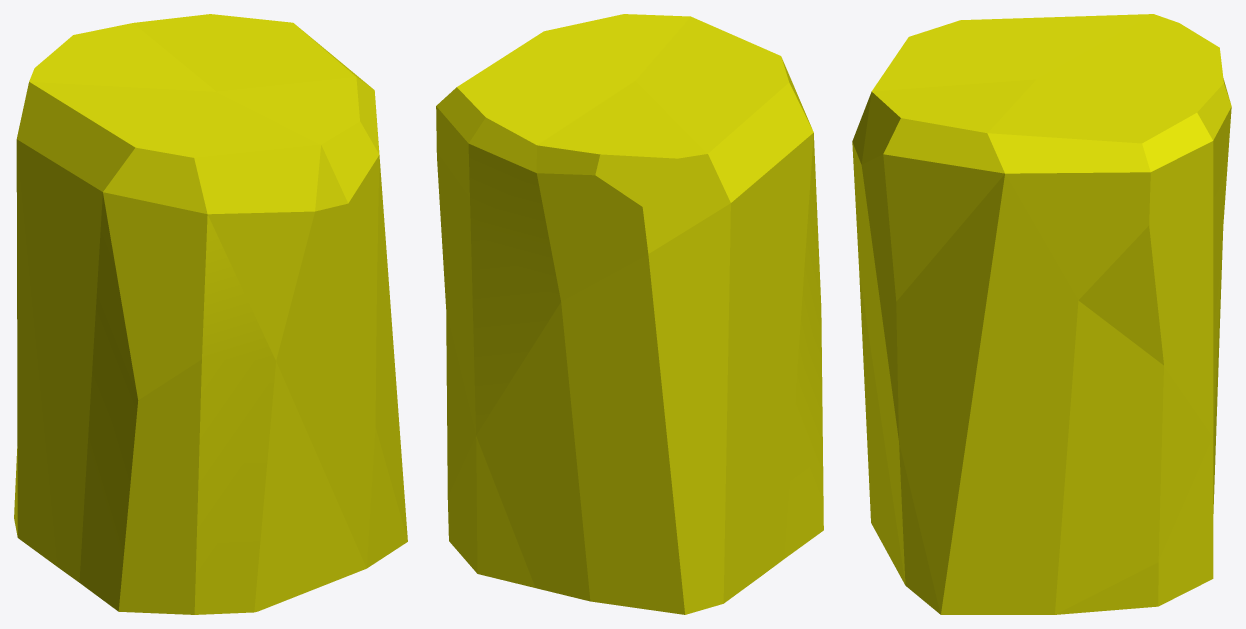
The picture shows the model from 3 angles, left to right: view 1: azimuth 30°, elevation 25°; view 2: azimuth 150°, elevation 25°; view 3: azimuth 270°, elevation 25°; orthographic projection. The views are drawn at different scales.
Parts seen in each view (by area): view 1: stone_001; view 2: stone_001; view 3: stone_001.
Boxes of the visible parts, x1,y1,x2,y2 form: stone_001: (14,14,407,614); stone_001: (436,14,823,614); stone_001: (852,14,1231,614).
Size of the model in its own units: 1.03 by 1.54 by 1.13.
Materials: 1 (1 with a texture image).
